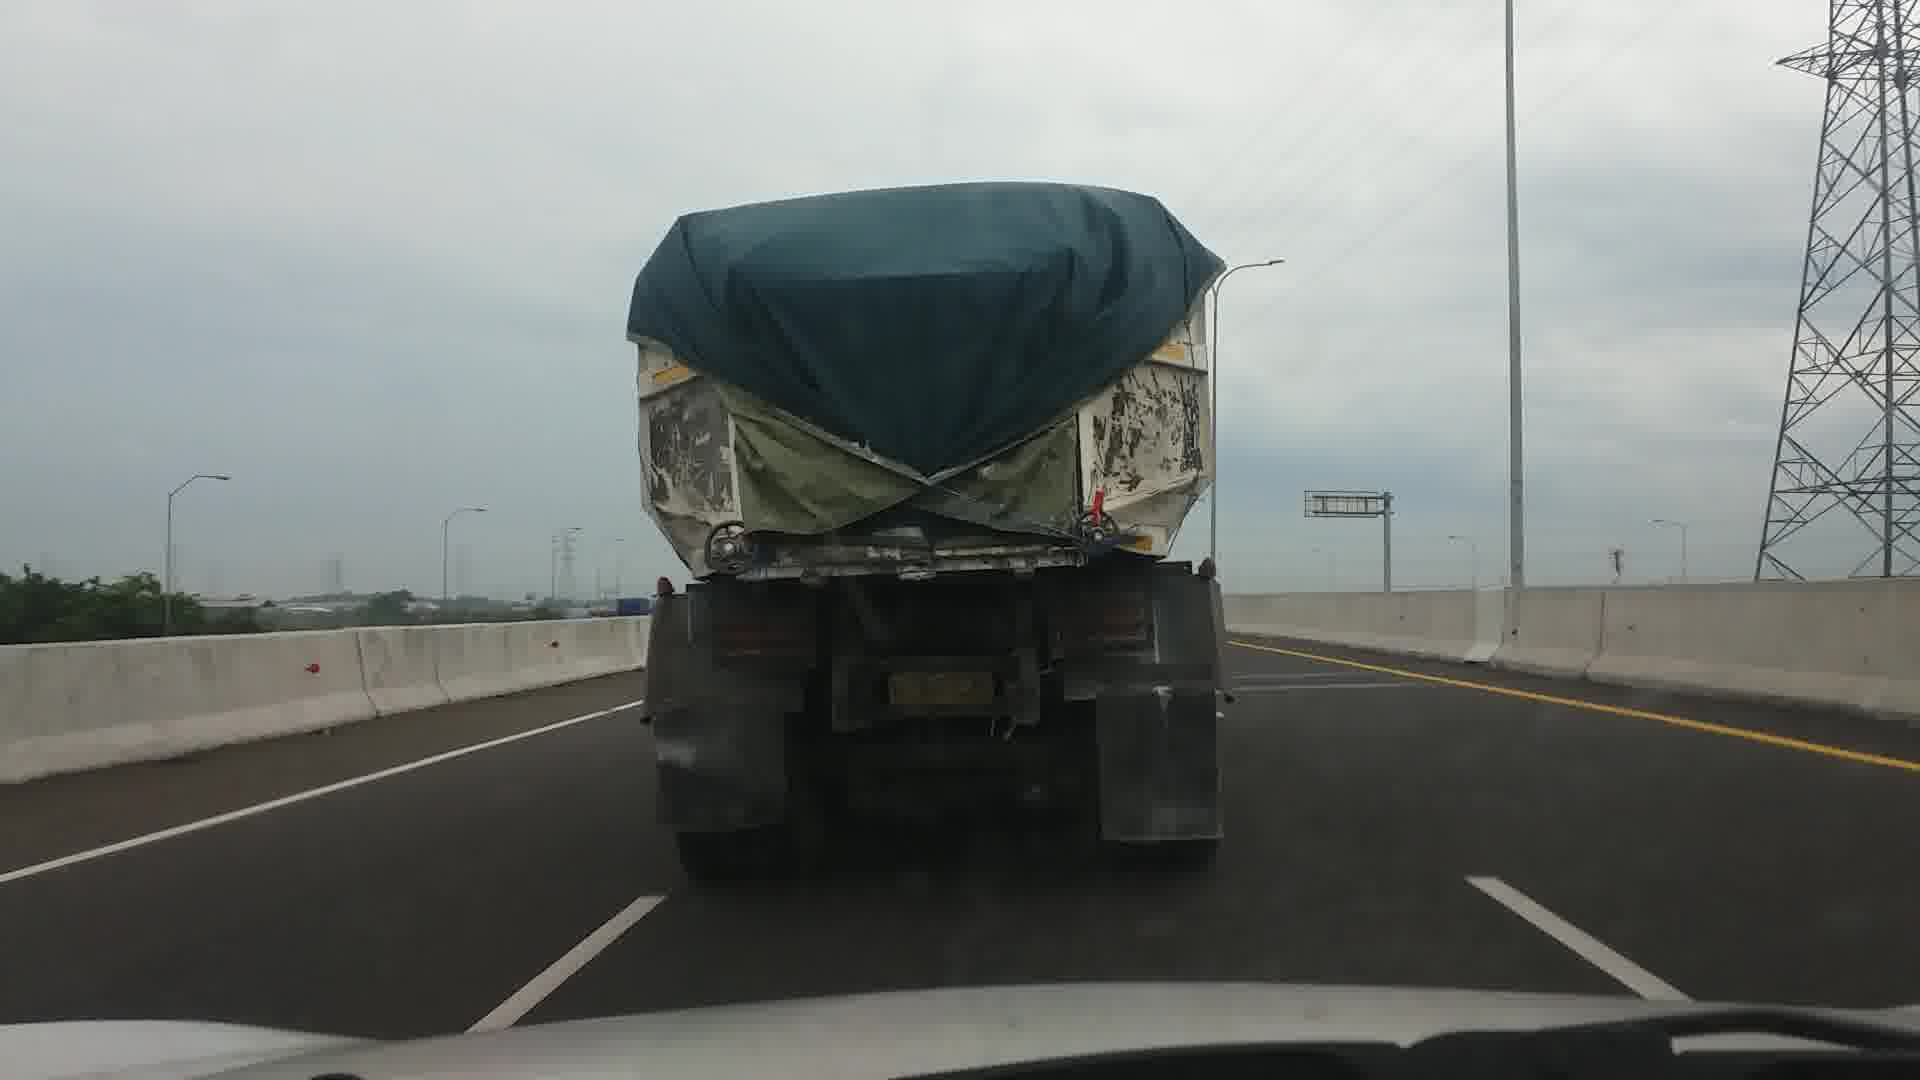plate_positive: (887, 671, 994, 705)
